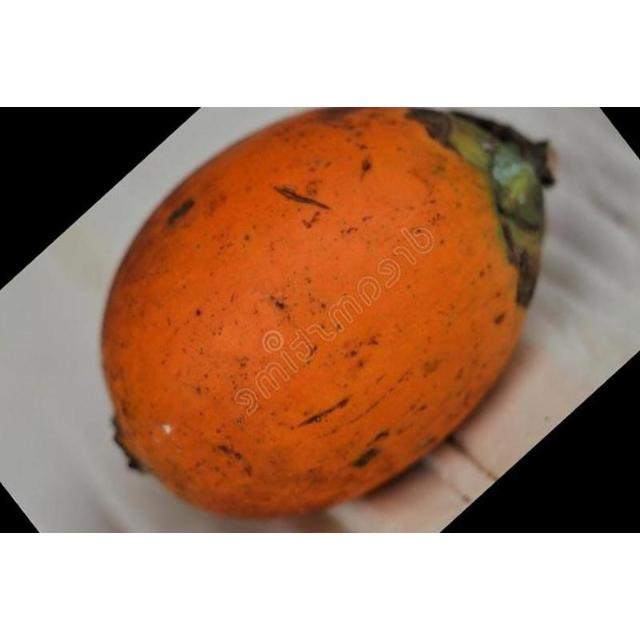good: (98, 107, 549, 521)
